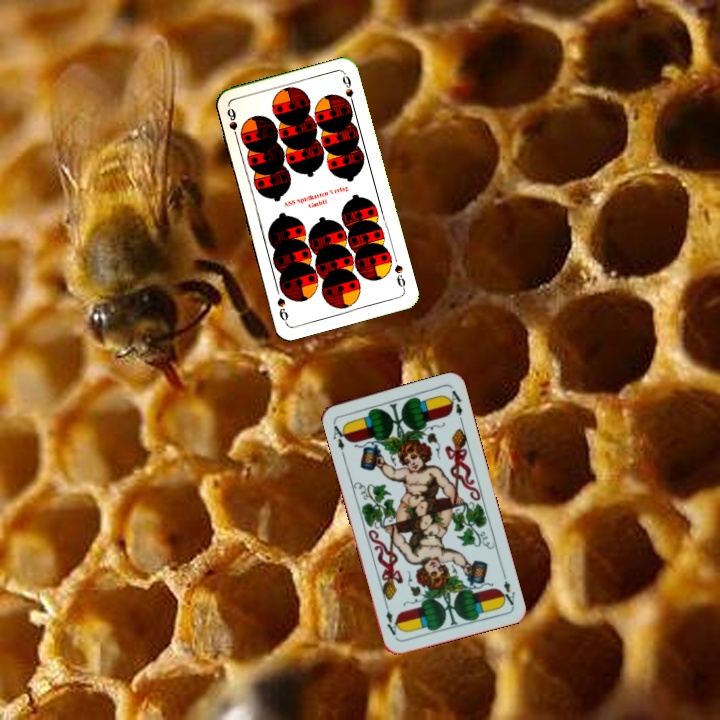EA: (329, 418, 351, 453), (496, 577, 518, 608)
S9: (223, 104, 246, 143), (390, 260, 408, 293)
